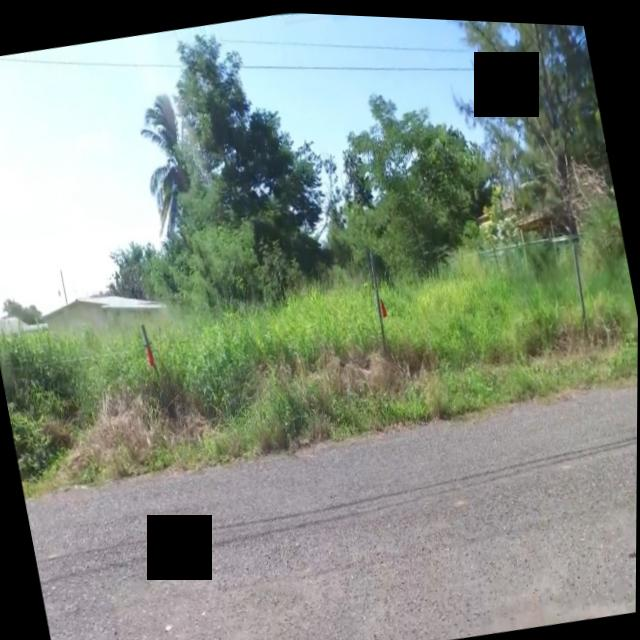Pole: (364, 249, 394, 347), (562, 235, 595, 323), (137, 320, 162, 383)
